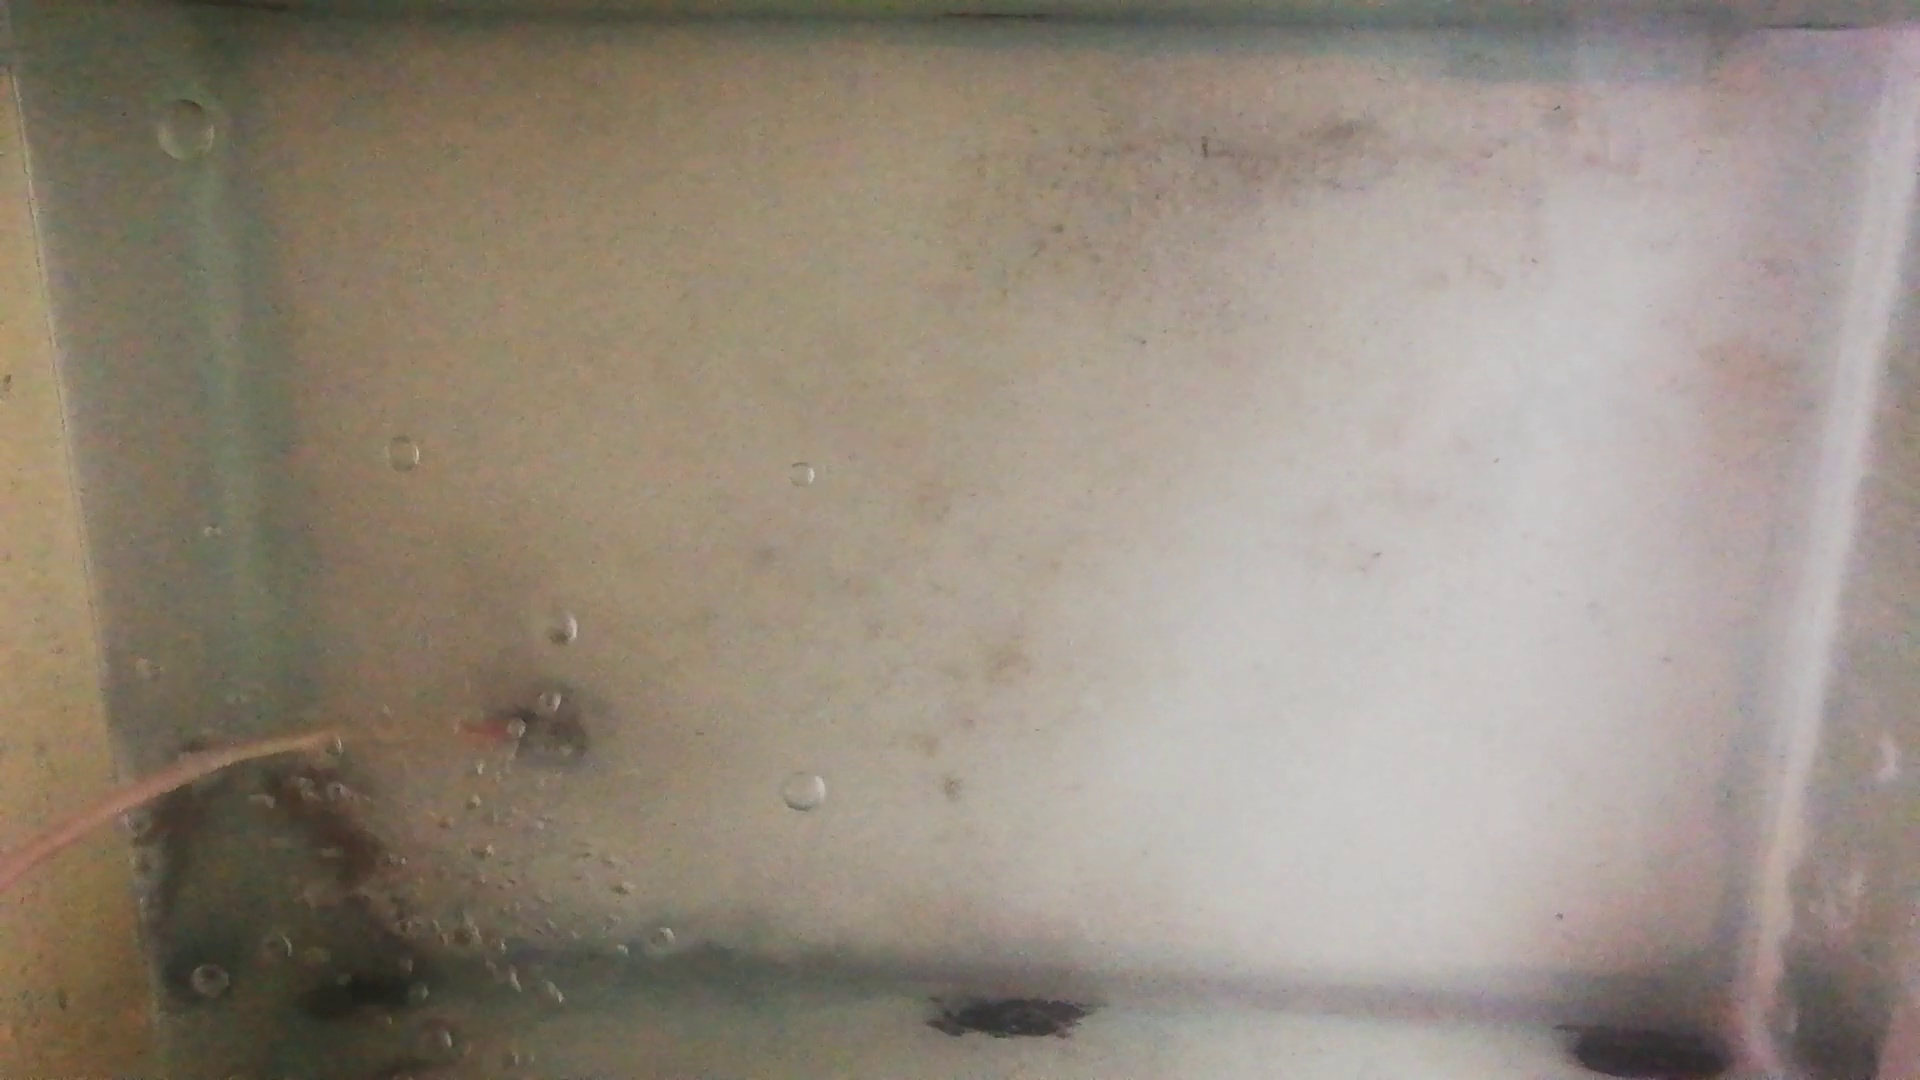fish: (261, 762, 386, 885), (338, 876, 431, 971)
